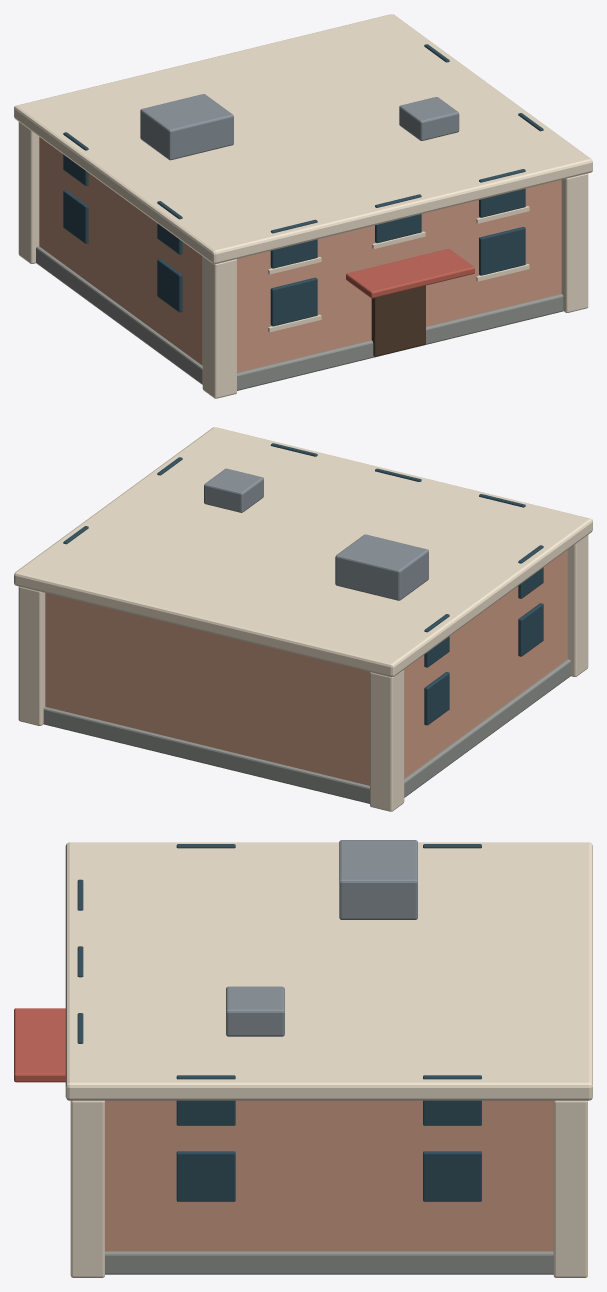
Rendered from building_0.glb.
3 renders of one model, top to bottom at view 1: azimuth 30°, elevation 25°; view 2: azimuth 150°, elevation 25°; view 3: azimuth 270°, elevation 25°, orthographic. The views are drawn at different scales.
Parts seen in each view (by area): view 1: Cube; view 2: Cube; view 3: Cube.
Part boxes in pixels (x1,y1,x2,y2): Cube: [14, 14, 592, 398]; Cube: [14, 427, 592, 811]; Cube: [14, 840, 592, 1277].
Bounding box in the file's own units: 11.7 × 5.3 × 11.75.
